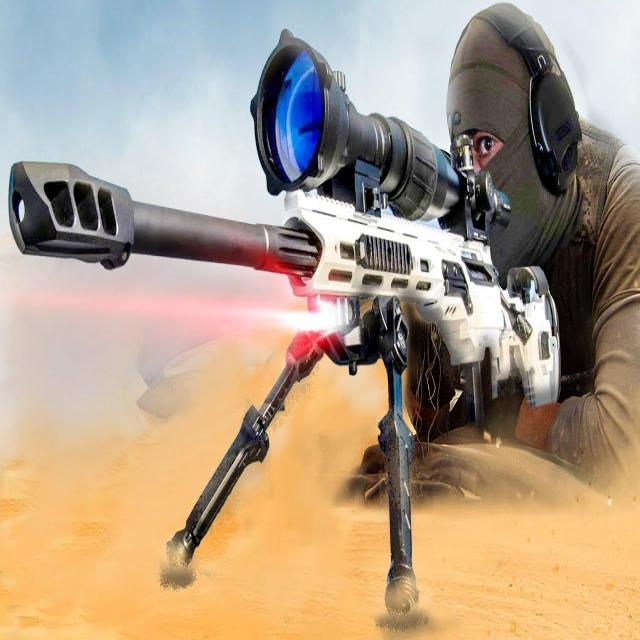weapon: (8, 21, 564, 612)
